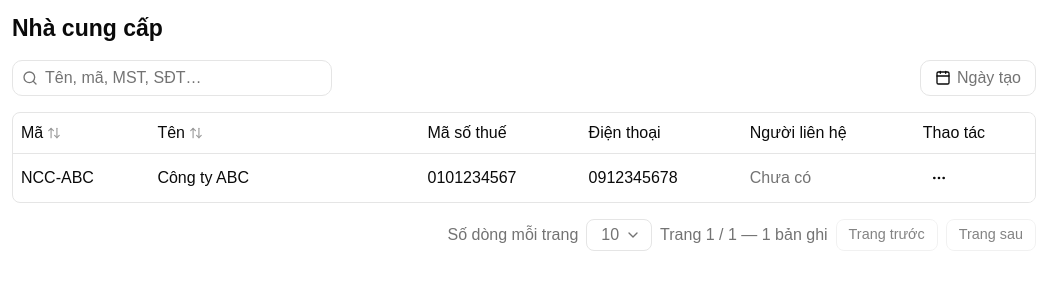
Scenario: SuppliersPage — sắp xếp (cờ supplierSort bật) › bấm tiêu đề Mã → gửi sortBy=code&sort=ASC, ghi lên URL
The image size is (1048, 287).
Check: the link "Công ty ABC" is shown, box [157, 168, 249, 186]
Click the button "Mã": [41, 133] box [13, 117, 69, 149]
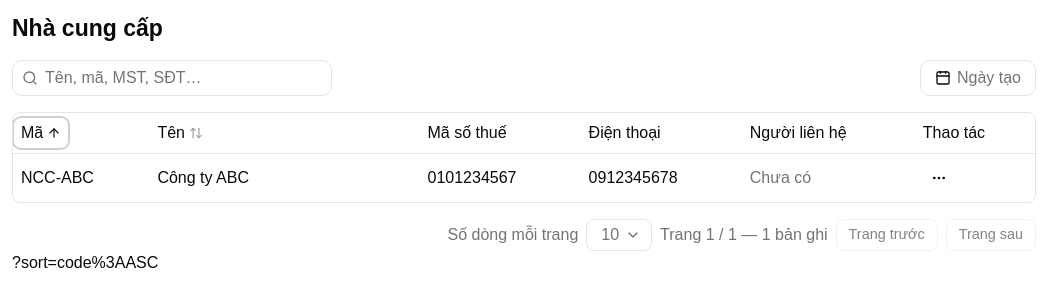
Check: the text with test id "location" shows "sort=code%3AASC", box [12, 254, 158, 270]
